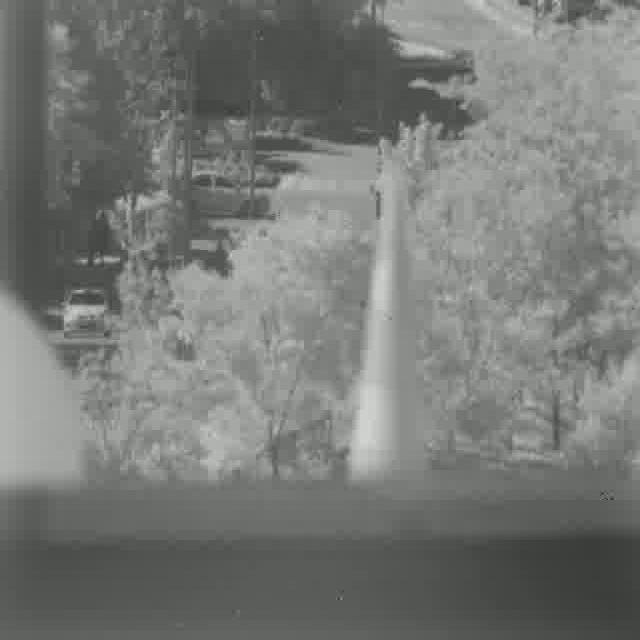Car: (0, 471, 637, 634), (64, 287, 115, 339)
